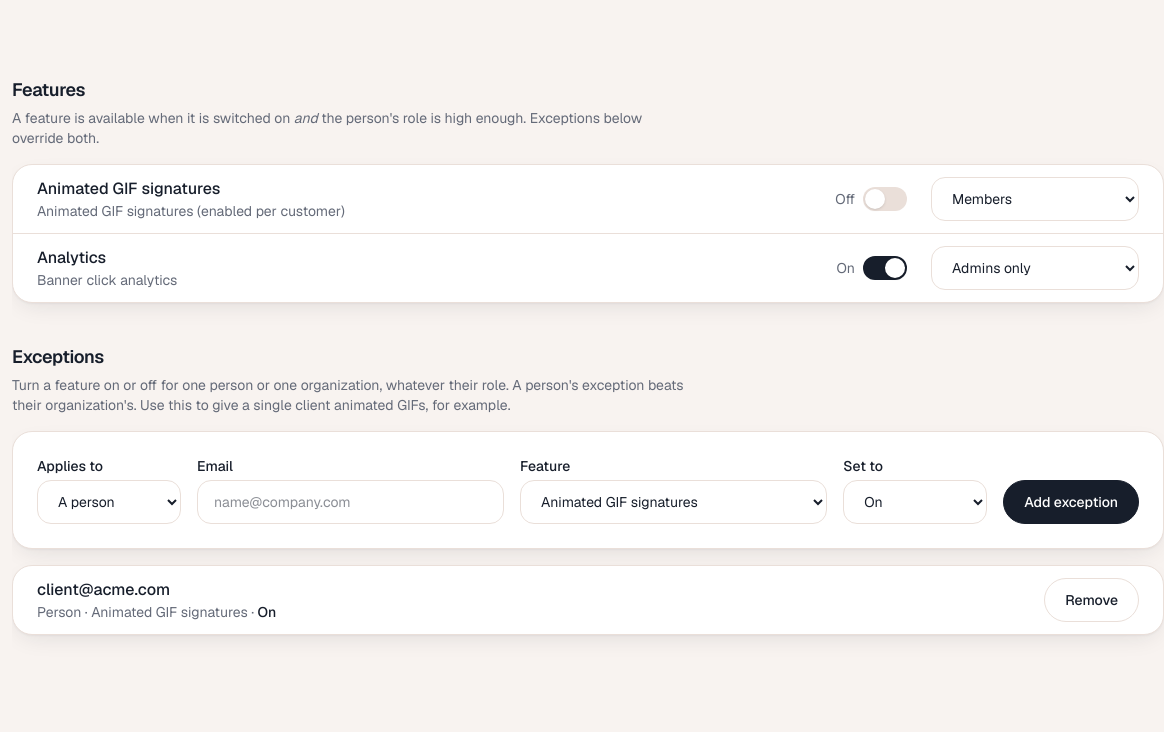
Features screen › flips a default with one request and refreshes the page
What coordinates should you click on to do the following:
click the switch named "Animated GIF signatures: on by default"
I would click on:
 (885, 199)
Its box is [863,177,907,221].
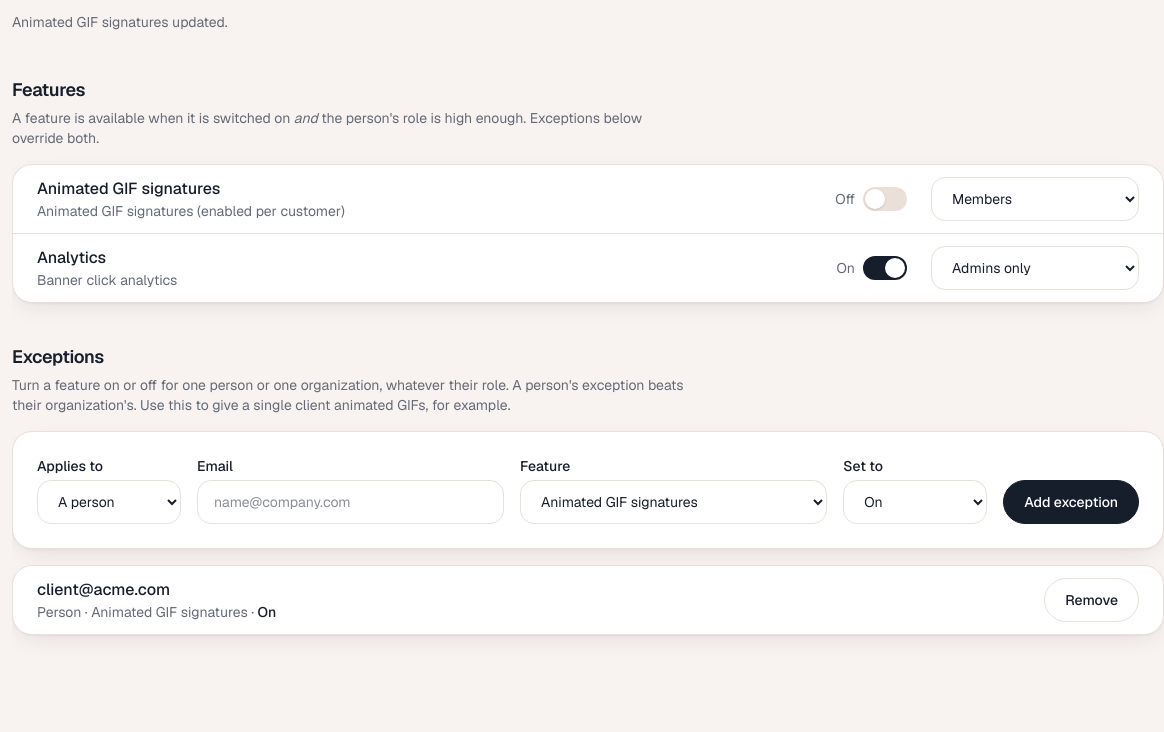
Expected: the text "Animated GIF signatures updated." is shown, [12,13,228,31]
